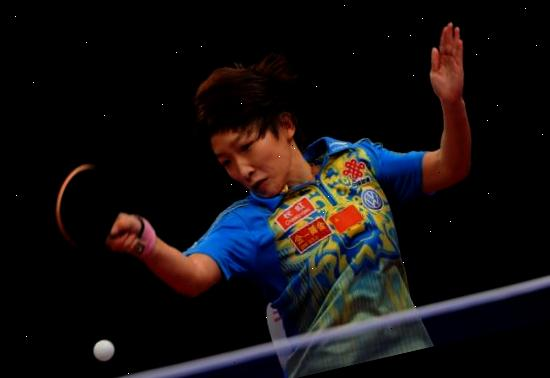ball: (87, 334, 118, 366)
